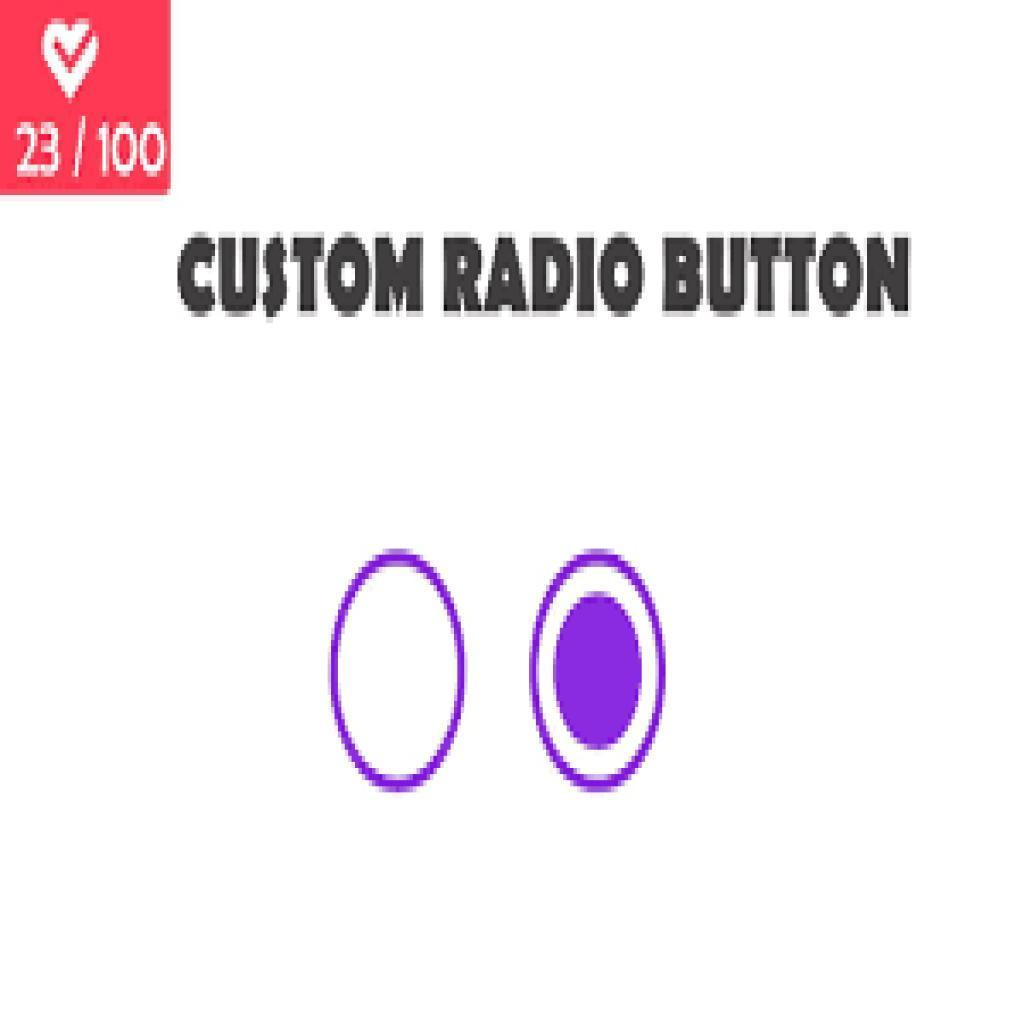label: (174, 234, 913, 321)
radio: (526, 546, 670, 795), (326, 548, 470, 795)
